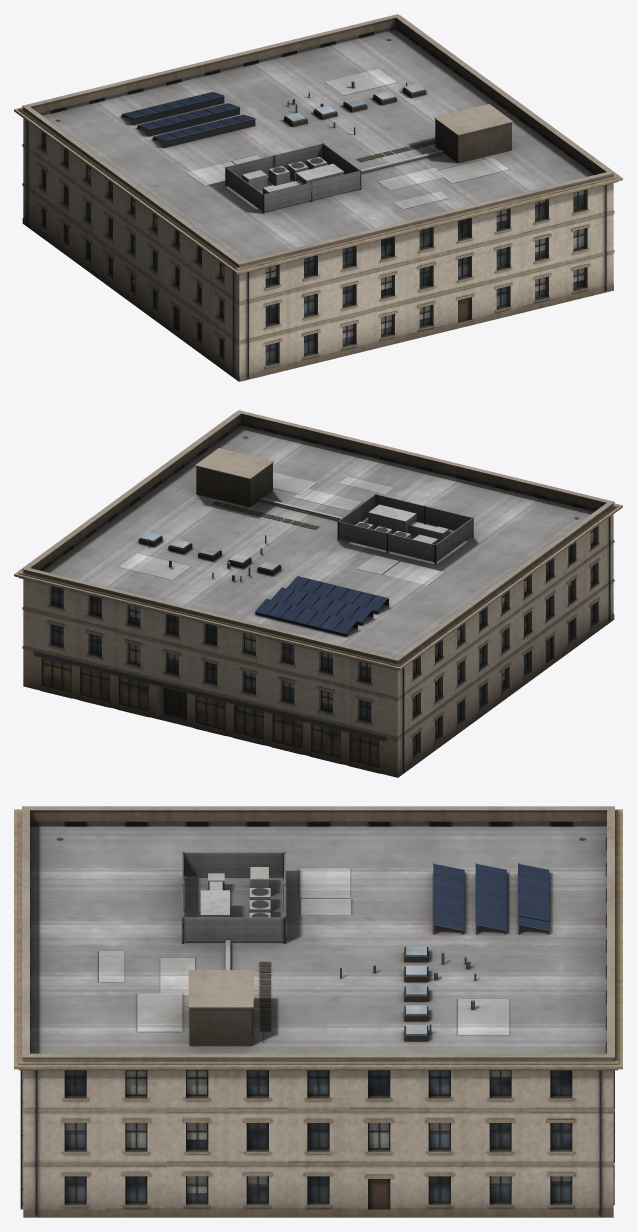
3 renders of one model, top to bottom at view 1: azimuth 30°, elevation 25°; view 2: azimuth 150°, elevation 25°; view 3: azimuth 270°, elevation 25°, orthographic. The views are drawn at different scales.
Parts seen in each view (by area): view 1: building; view 2: building; view 3: building.
Boxes of the visible parts, bbox=[...] form: building: bbox=[14, 14, 622, 381]; building: bbox=[14, 410, 622, 777]; building: bbox=[14, 806, 622, 1217].
Bounding box in the file's own units: 33 × 10.98 × 33.
1 material, 1 textured.
